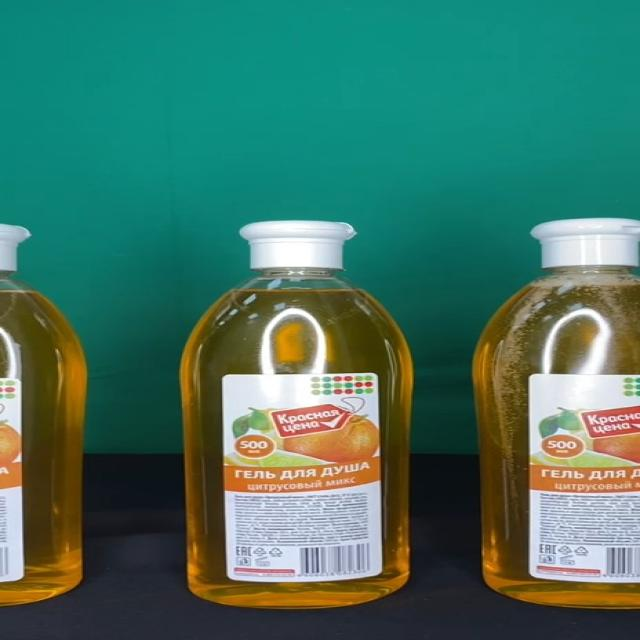Bottle: (179, 221, 413, 610), (473, 219, 640, 610)
Cap: (238, 222, 358, 270), (528, 219, 640, 267)
